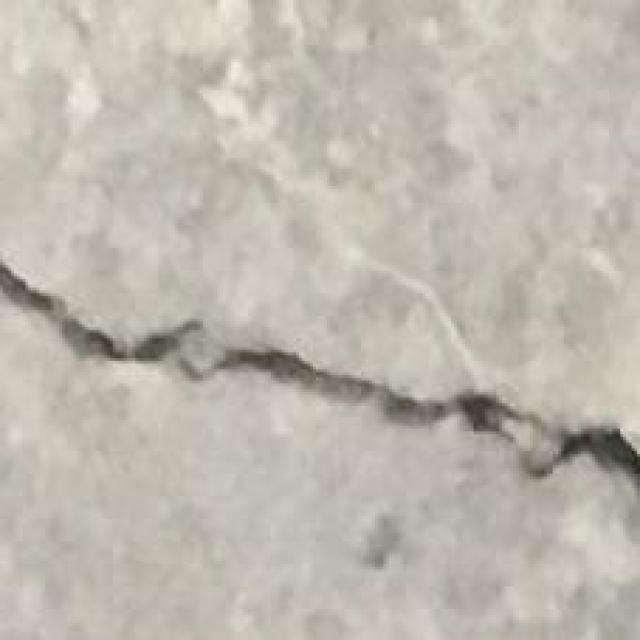Crack: (0, 260, 637, 490)
